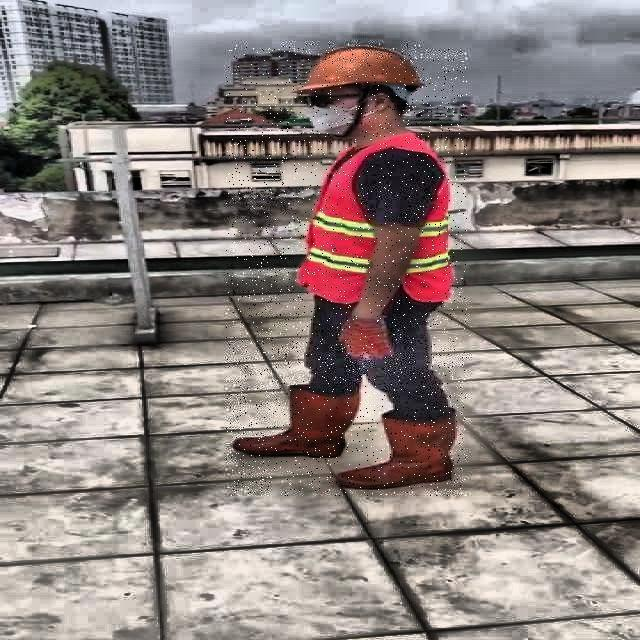safety_helmet: (295, 46, 431, 92)
safety_jacket: (302, 140, 454, 303)
